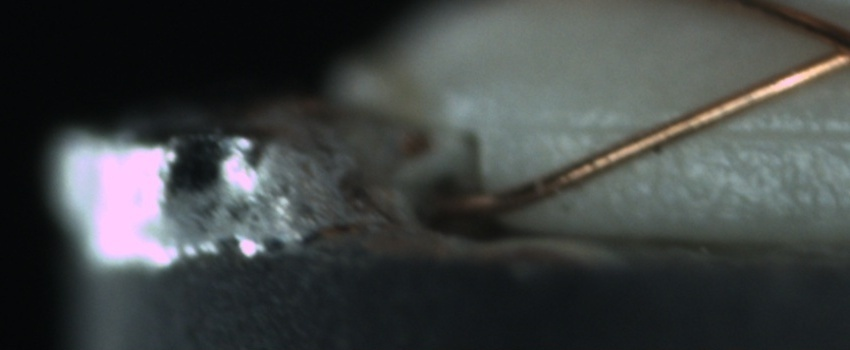CL: (801, 11, 850, 80)
DL: (528, 103, 849, 158)
